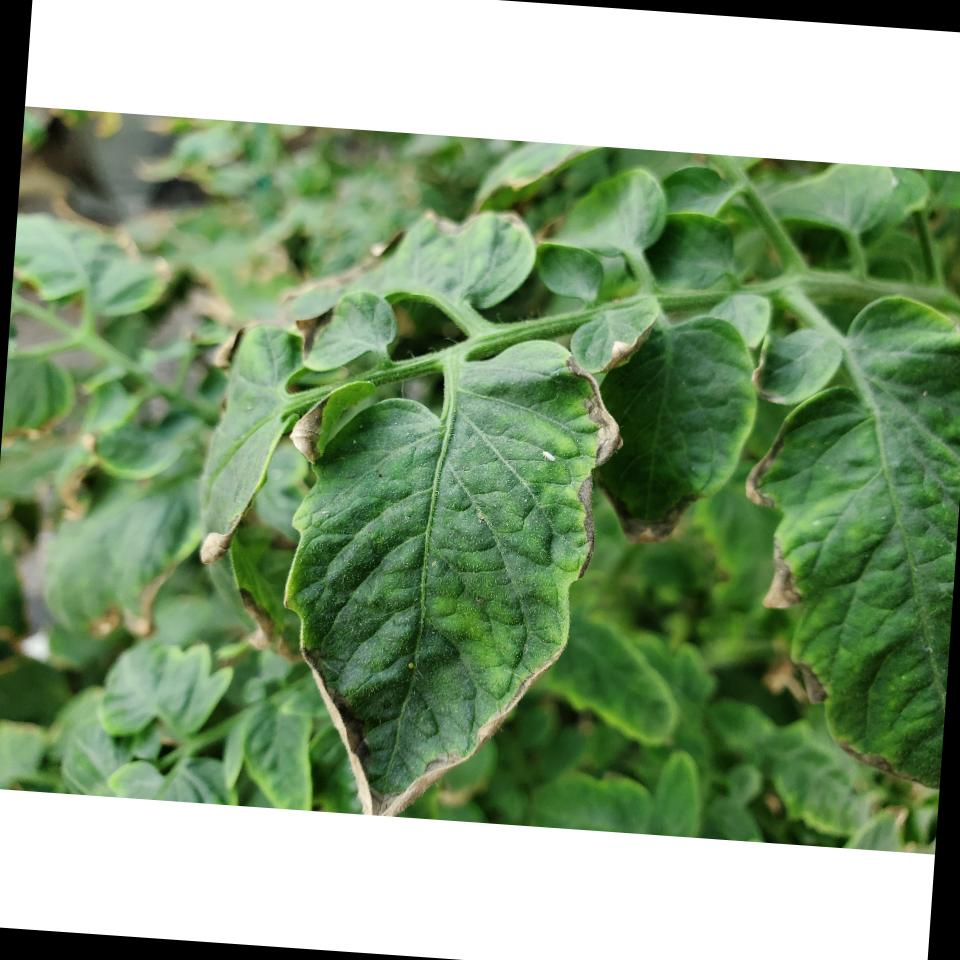tomato_bacterial_blight: (258, 317, 636, 830), (724, 316, 960, 790)
